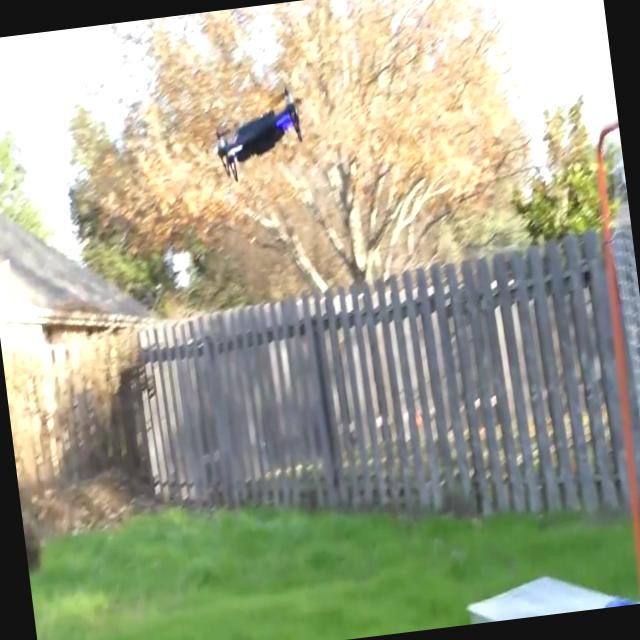drone: (207, 79, 307, 186)
